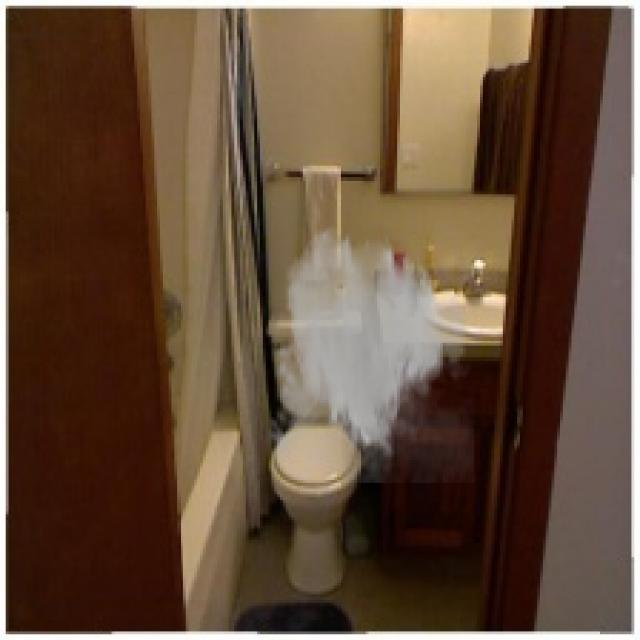smoke: (263, 223, 474, 483)
